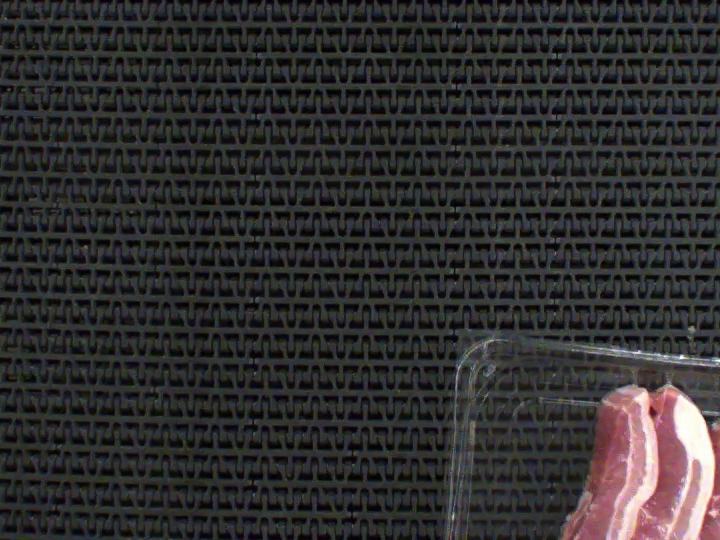packaging-error: (660, 363, 679, 393), (627, 359, 640, 390)
